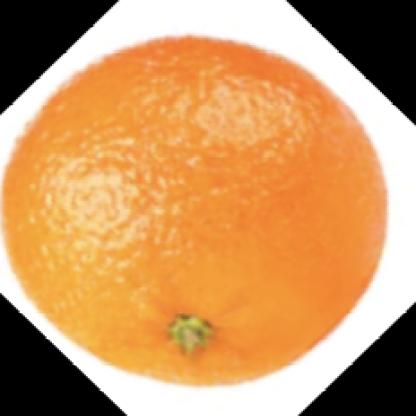fresh: (8, 38, 386, 389)
